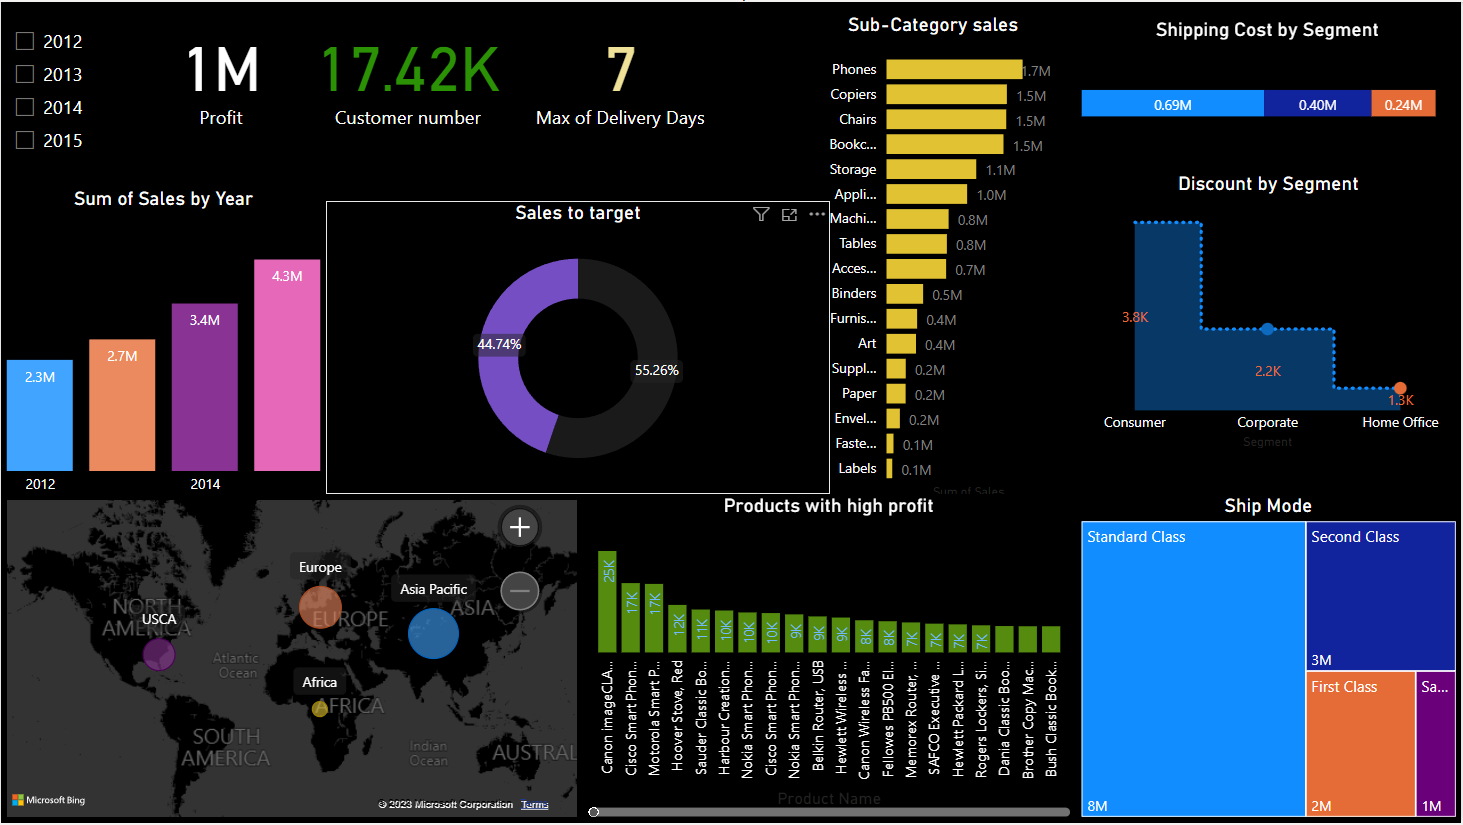

Layout of this report page (visuals, bound fields, positions):
{"tool":"powerbi","page":{"name":"Page 1","canvas":[1280,720],"ordinal":0},"visuals":[{"type":"columnChart","fields":{"Category":["superstore.Order Date.Variation.Date Hierarchy.Year"],"Y":["Sum(superstore.Sales)"]},"box":[0,162.4,285,279.1],"z":0},{"type":"slicer","fields":{"Values":["superstore.Order Date.Variation.Date Hierarchy.Year"]},"box":[0,13.6,101.2,135.2],"z":1000},{"type":"card","fields":{"Values":["Sum(superstore.Profit)"]},"box":[100.9,0,184.2,124.5],"z":2000},{"type":"map","fields":{"Size":["Sum(superstore.Sales)"],"Category":["superstore.Market"]},"box":[0,431.9,509.7,287.9],"z":3000},{"type":"clusteredBarChart","title":"Sub-Category sales","fields":{"Category":["superstore.Sub-Category"],"Y":["Sum(superstore.Sales)"]},"box":[709.5,9.6,215.7,431.5],"z":4000},{"type":"treemap","title":"Ship Mode","fields":{"Group":["superstore.Ship Mode"],"Values":["Sum(superstore.Sales)"]},"box":[942.8,431.5,337.6,287.6],"z":5000},{"type":"columnChart","title":"Products with  high profit ","fields":{"Category":["superstore.Product Name"],"Y":["Sum(superstore.Profit)"]},"box":[509.7,431.9,432.8,287.9],"z":6000},{"type":"donutChart","title":"Sales to target","fields":{"Y":["Sum(superstore.Target)","Sum(superstore.Sales)"]},"box":[285,174.5,442,257],"z":7000},{"type":"stackedAreaChart","title":"Discount by Segment","fields":{"Category":["superstore.Segment"],"Y":["Sum(superstore.Discount)"]},"box":[942.8,149.1,337.6,247.3],"z":8000},{"type":"card","fields":{"Values":["Max(superstore.Delivery Days)"]},"box":[445.5,0,194.7,124.5],"z":9000},{"type":"barChart","title":" Shipping Cost by Segment","fields":{"Y":["Sum(superstore.Shipping Cost)"],"Series":["superstore.Segment"]},"box":[942.8,14,335.9,123.7],"z":9001},{"type":"card","fields":{"Values":["Count(superstore.Customer ID)"]},"box":[268.4,0,177.1,124.5],"z":9002}]}

Visuals, with their boxes in screenshot pixels (x1, y1, x2, y2), scaled from the page's 1280x720 canvas onto the 1463x825 screenshot:
columnChart - superstore.Order Date.Variation.Date Hierarchy.Year x Sum(superstore.Sales): (0, 186, 326, 506)
slicer - superstore.Order Date.Variation.Date Hierarchy.Year: (0, 16, 116, 170)
card - Sum(superstore.Profit): (115, 0, 326, 143)
map - Sum(superstore.Sales) x superstore.Market: (0, 495, 583, 824)
"Sub-Category sales" clusteredBarChart: (811, 11, 1057, 505)
"Ship Mode" treemap: (1078, 494, 1462, 824)
"Products with  high profit " columnChart: (583, 495, 1077, 824)
"Sales to target" donutChart: (326, 200, 831, 494)
"Discount by Segment" stackedAreaChart: (1078, 171, 1462, 454)
card - Max(superstore.Delivery Days): (509, 0, 732, 143)
" Shipping Cost by Segment" barChart: (1078, 16, 1462, 158)
card - Count(superstore.Customer ID): (307, 0, 509, 143)
